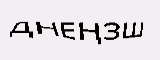В: (78, 14, 96, 44)
Г: (24, 22, 44, 44)
М: (95, 13, 132, 46), (63, 18, 80, 46)
Н: (44, 21, 63, 46)
